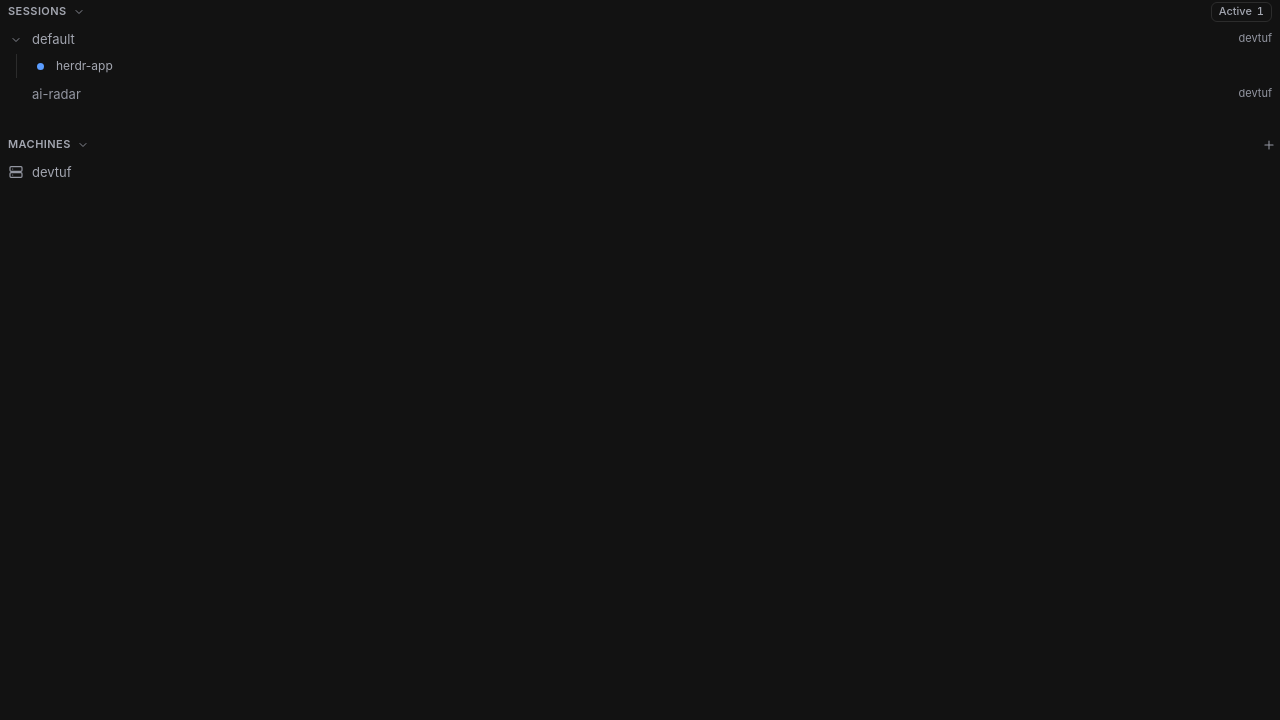
Test: Sidebar › names the agents still working before stopping their session, Cancel first
The image size is (1280, 720).
Right-click the text "default".
right_click(53, 39)  # box [32,30,75,48]
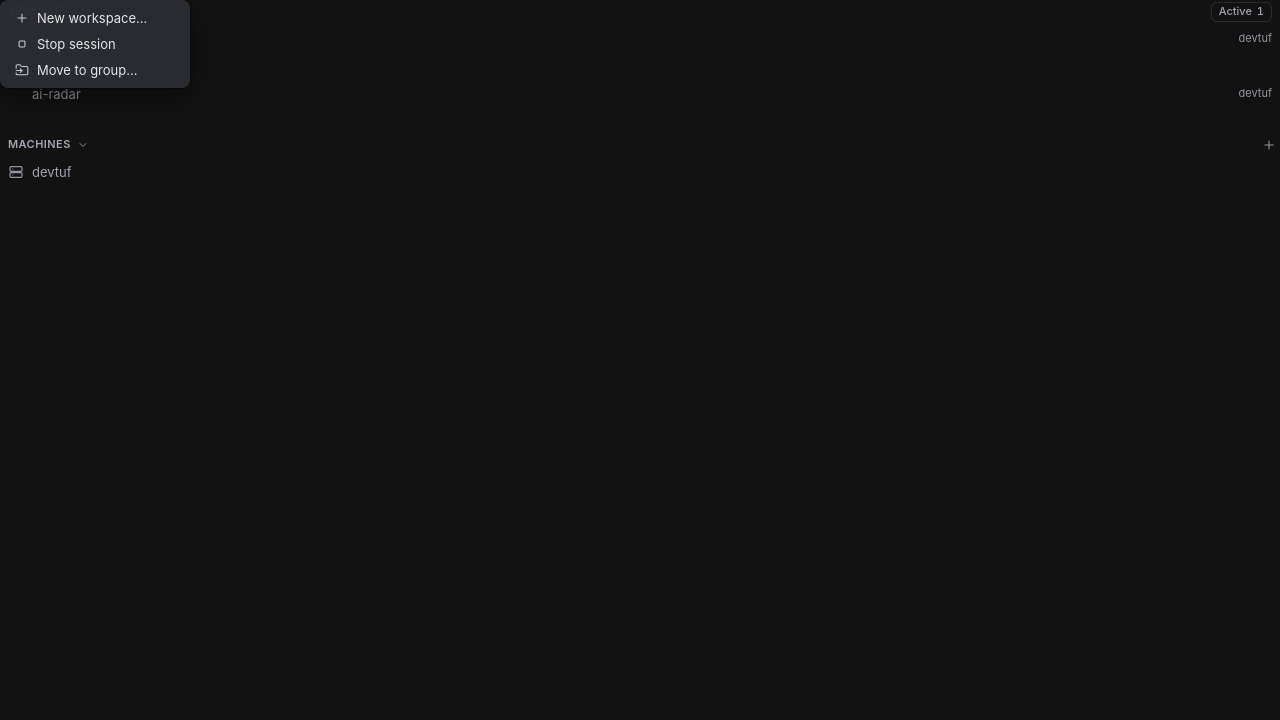
Click the menu item "Stop session".
click(95, 44)  # box [5,31,185,57]
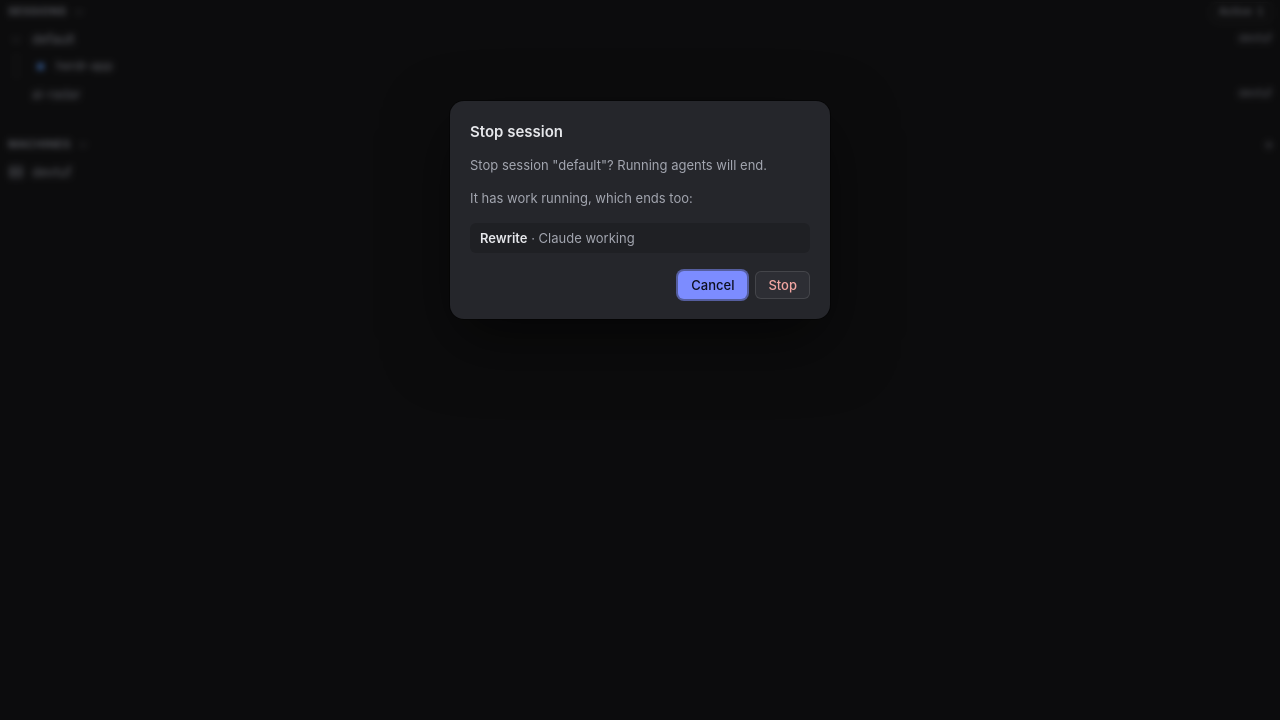
Result: the button "Cancel" is shown at [678,271,748,299]
